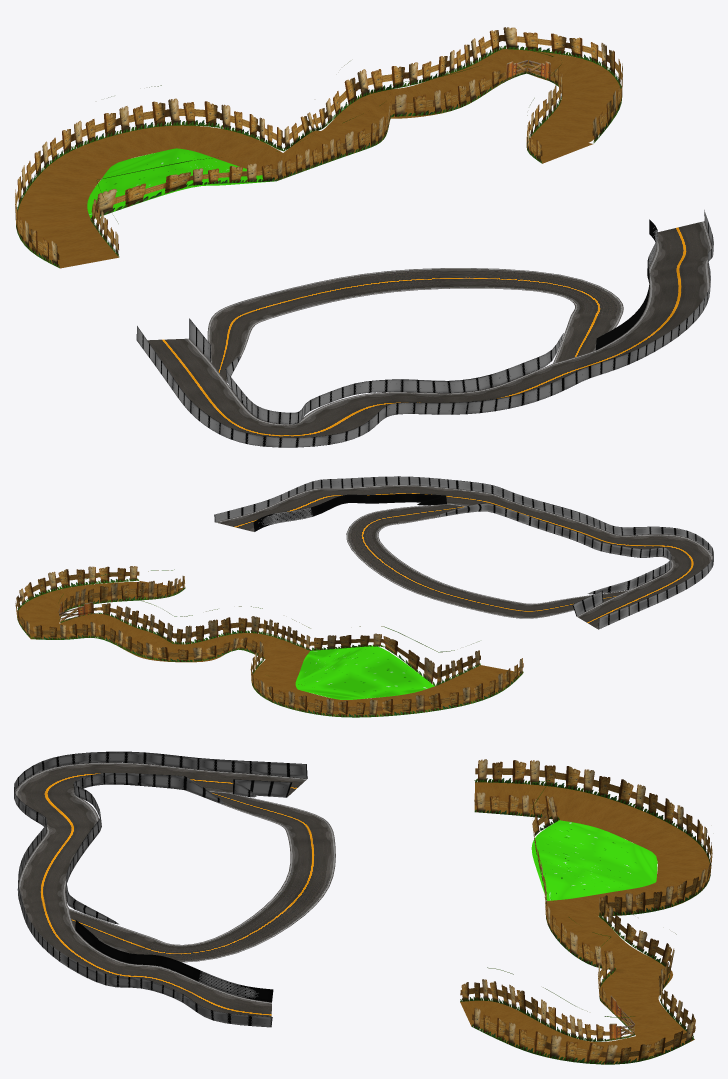
File: dogtalk track.obj
The picture shows the model from 3 angles, top to bottom: view 1: azimuth 30°, elevation 25°; view 2: azimuth 150°, elevation 25°; view 3: azimuth 270°, elevation 25°; orthographic projection. The views are drawn at different scales.
Parts seen in each view (by area): view 1: City_road, Farm_road, Fence, Sidewalk, Grass; view 2: Fence, City_road, Sidewalk, Farm_road, Grass; view 3: City_road, Fence, Farm_road, Sidewalk, Grass.
Part boxes in pixels (left/top/right/bottom): City_road: left=147, top=221, right=712, bottom=437; Farm_road: left=16, top=48, right=621, bottom=268; Fence: left=15, top=27, right=622, bottom=268; Sidewalk: left=136, top=210, right=713, bottom=447; Grass: left=87, top=148, right=273, bottom=218; Fence: left=15, top=566, right=523, bottom=717; City_road: left=215, top=485, right=712, bottom=629; Sidewalk: left=214, top=476, right=713, bottom=629; Farm_road: left=17, top=581, right=522, bottom=716; Grass: left=295, top=645, right=434, bottom=699; City_road: left=15, top=762, right=335, bottom=1016; Fence: left=460, top=759, right=712, bottom=1064; Farm_road: left=460, top=782, right=710, bottom=1064; Sidewalk: left=14, top=751, right=307, bottom=1027; Grass: left=531, top=820, right=657, bottom=900.
Bounding box in the file's own units: 42009 × 3402 × 40979.
